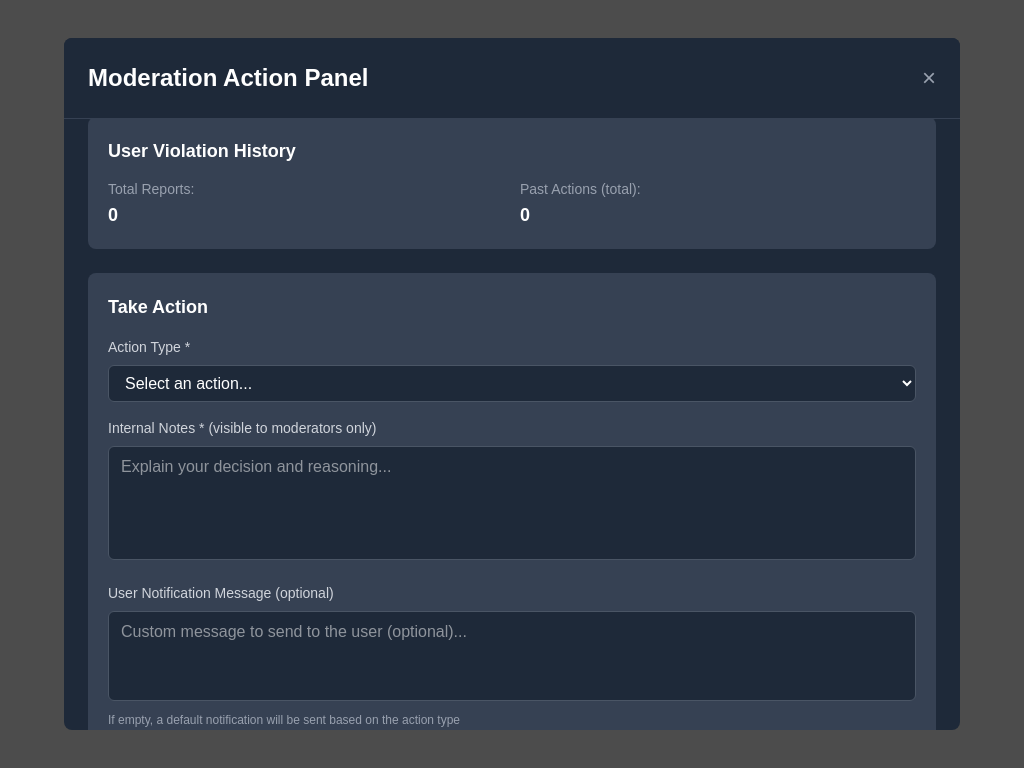
Test: ModerationActionPanel › Confirmation Dialogs › should show confirmation dialog for album removal
(page scrolled)
Note: Select content removal
Step 1. Select "Remove Content" in the dropdown labelled "Action Type *" → (512, 384), box [108,365,916,402]
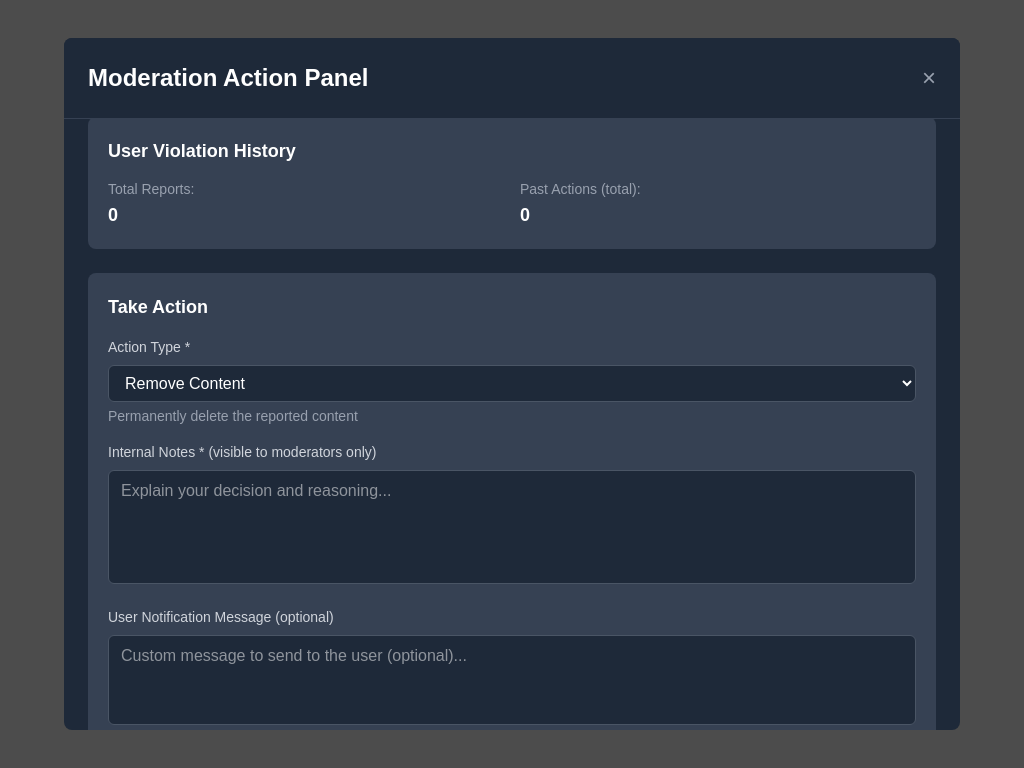
Note: Fill in internal notes
Step 2. Type "Removing inappropriate album" into the text box labelled "Internal Notes * (visible to moderators only)" → (512, 527), box [108,470,916,584]
(page scrolled)
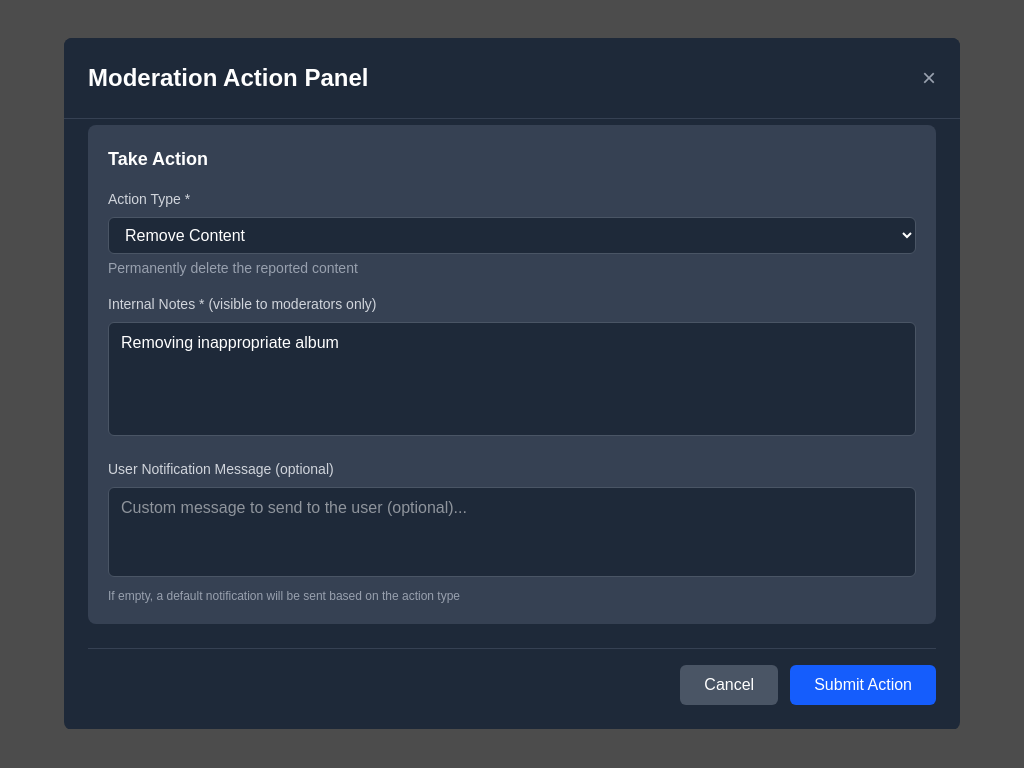
Step 3. Click the button "Submit Action" → (863, 685), box [790,665,936,705]
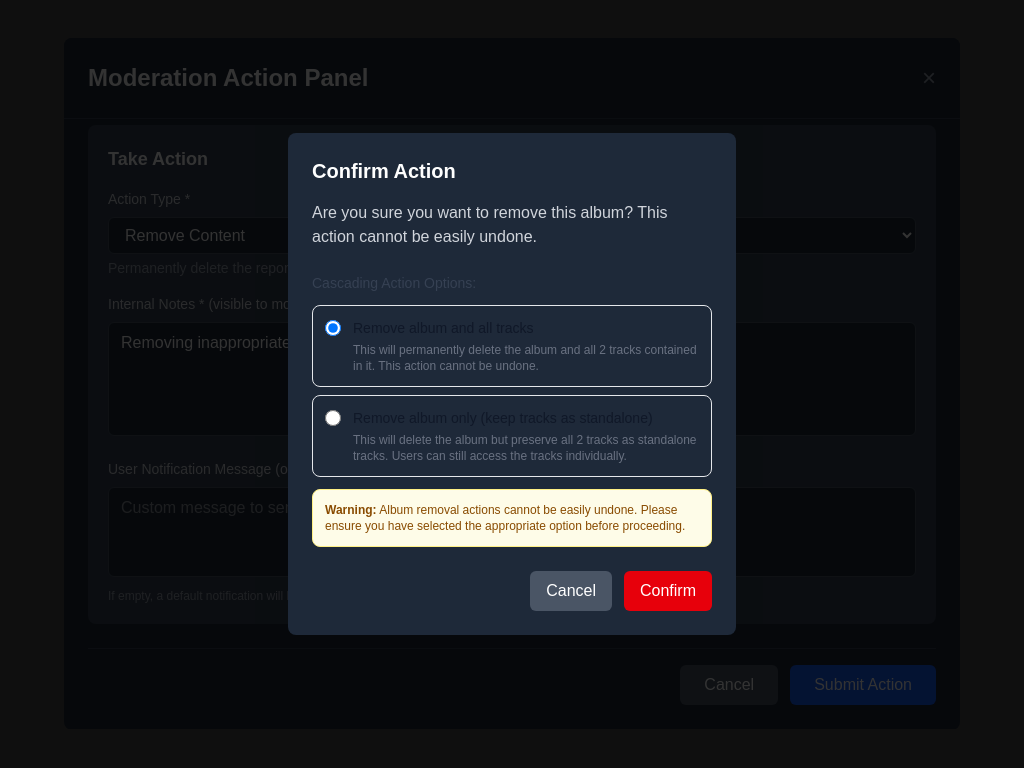
Check: the heading "Confirm Action" is shown, box [312,160,456,182]
Check: the text "Are you sure you want to remove this album" is shown, box [312,204,667,245]
